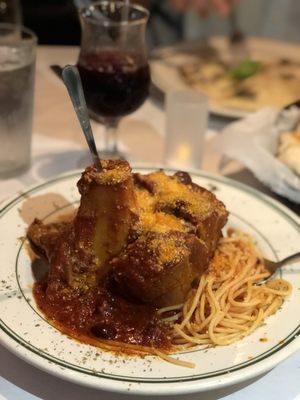burger: (253, 251, 300, 287)
pizza: (0, 28, 38, 179), (163, 88, 210, 170)
